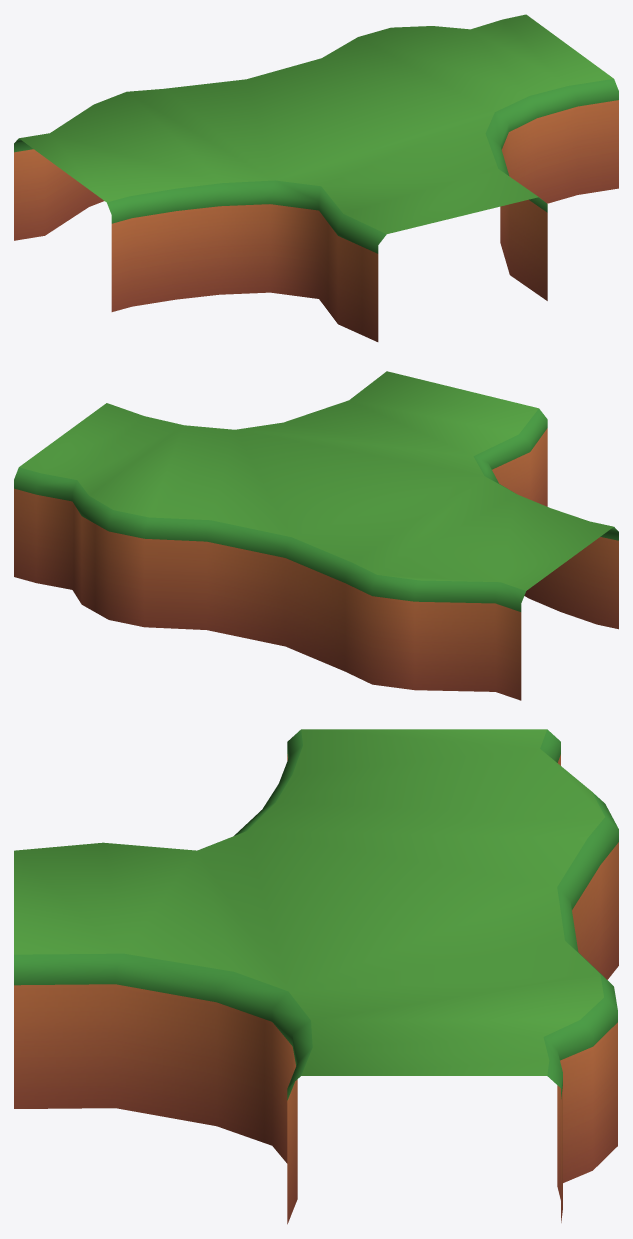
File: T Junction 02.FBX
3 views of the same model, one above another, from view 1: azimuth 30°, elevation 25°; view 2: azimuth 150°, elevation 25°; view 3: azimuth 270°, elevation 25° (orthographic). The views are drawn at different scales.
Parts seen in each view (by area): view 1: T Junction 02; view 2: T Junction 02; view 3: T Junction 02.
Part boxes in pixels (left/top/right/bottom): T Junction 02: left=14, top=14, right=618, bottom=341; T Junction 02: left=14, top=371, right=618, bottom=700; T Junction 02: left=14, top=729, right=618, bottom=1224.
Bounding box in the file's own units: 1500 × 300 × 1106.
Materials: 1 (1 with a texture image).
